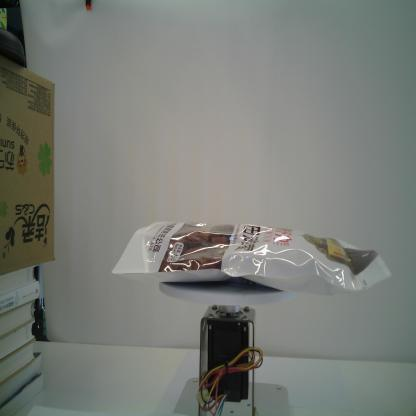Dried Food: (110, 217, 393, 301)
